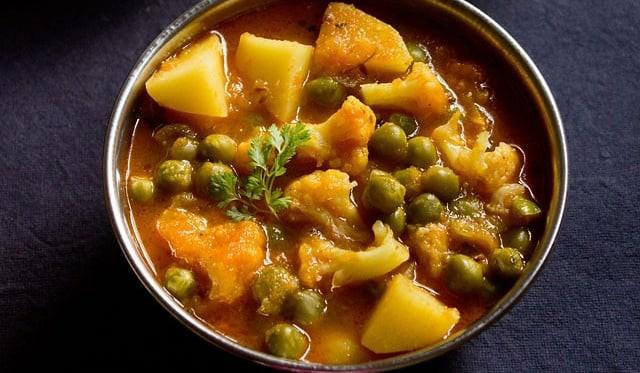AlooGobi: (128, 0, 541, 364)
